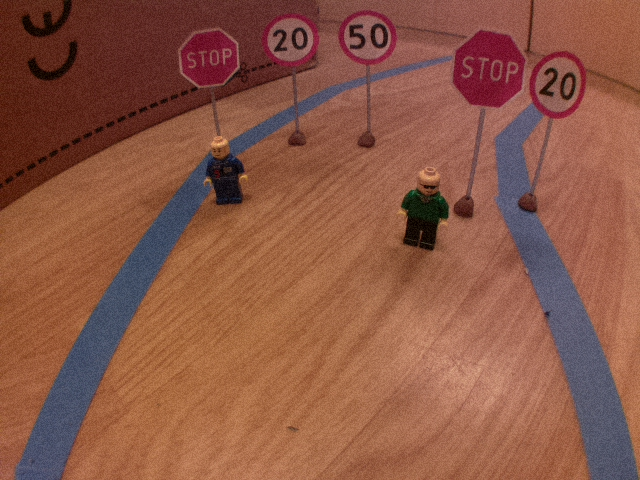LEGO_person: (397, 163, 452, 256), (203, 134, 252, 211)
ogr_20: (529, 47, 591, 122), (260, 10, 321, 72)
ogr_50: (336, 8, 400, 67)
stop: (448, 22, 530, 113), (175, 25, 244, 92)
